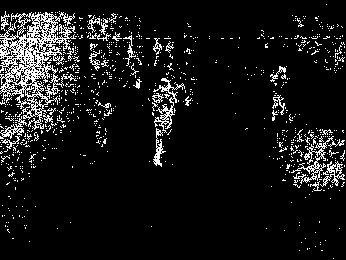person: (152, 79, 175, 168), (271, 63, 286, 119)
